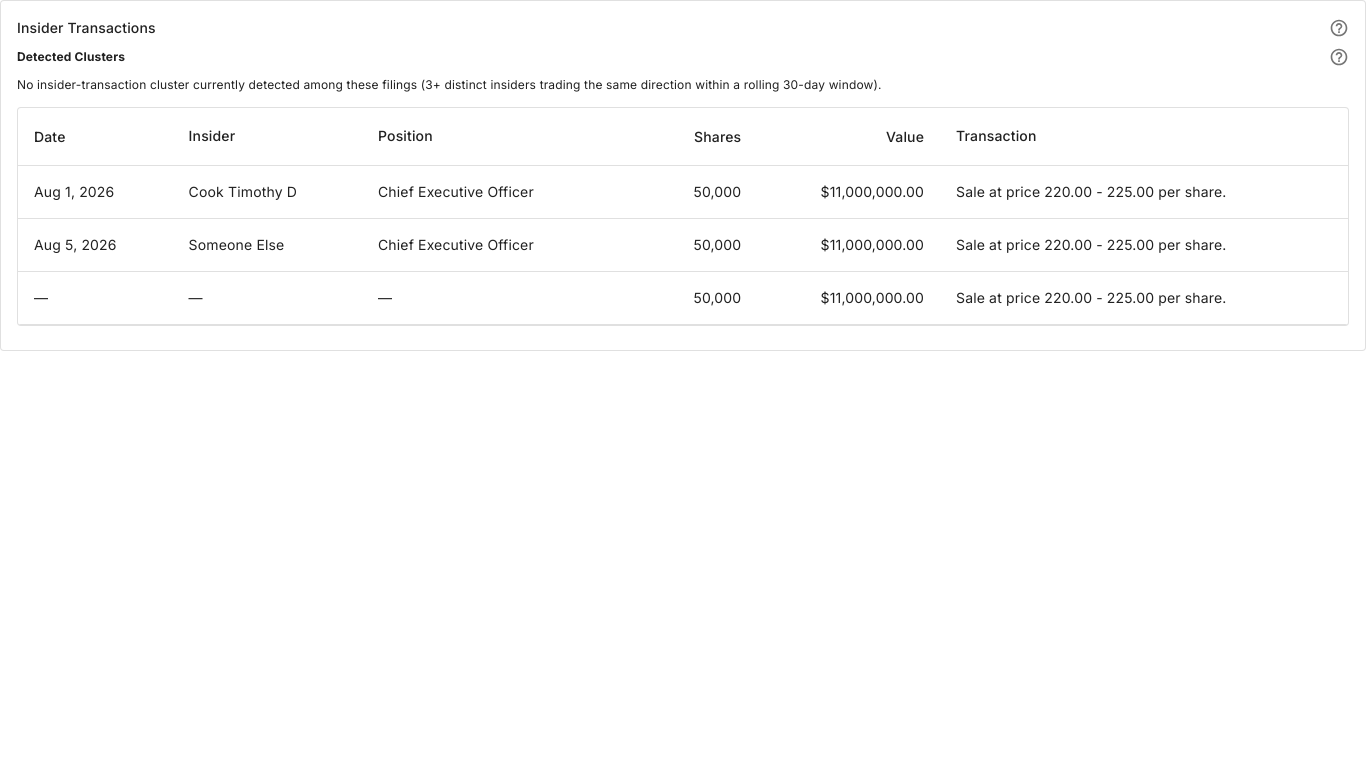
Test: InsiderTransactionsPanel › renders insider transactions in a table and notes the 3-filing cluster threshold
Expected: the table named "Insider transactions" is shown, top-left (18, 108), bottom-right (1348, 325)
Expected: the text "Cook Timothy D" is shown, top-left (173, 166), bottom-right (362, 218)
Click the button named "Insider Transactions help" at (1339, 28), box top-left (1329, 18), bottom-right (1349, 38)
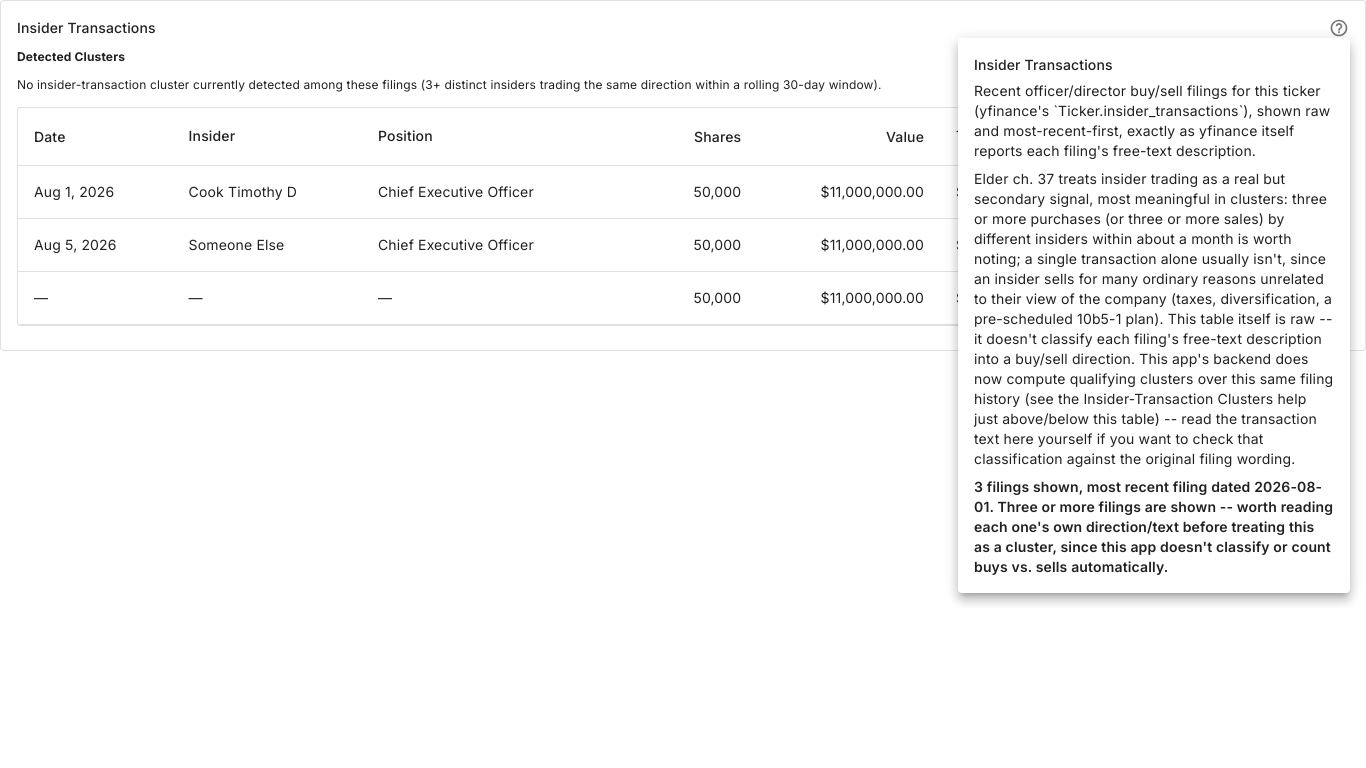
Result: the text "Three or more filings are shown" is shown at top-left (974, 478), bottom-right (1333, 575)
